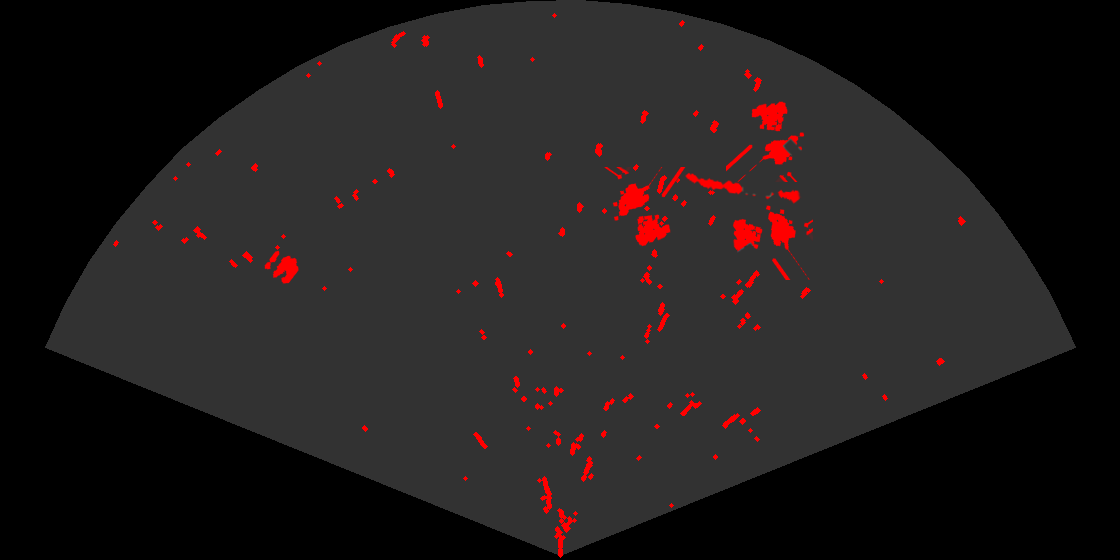ball: (263, 249, 300, 285)
cage: (603, 167, 687, 248), (726, 100, 806, 182), (731, 204, 813, 280)
chain: (684, 171, 802, 205)
